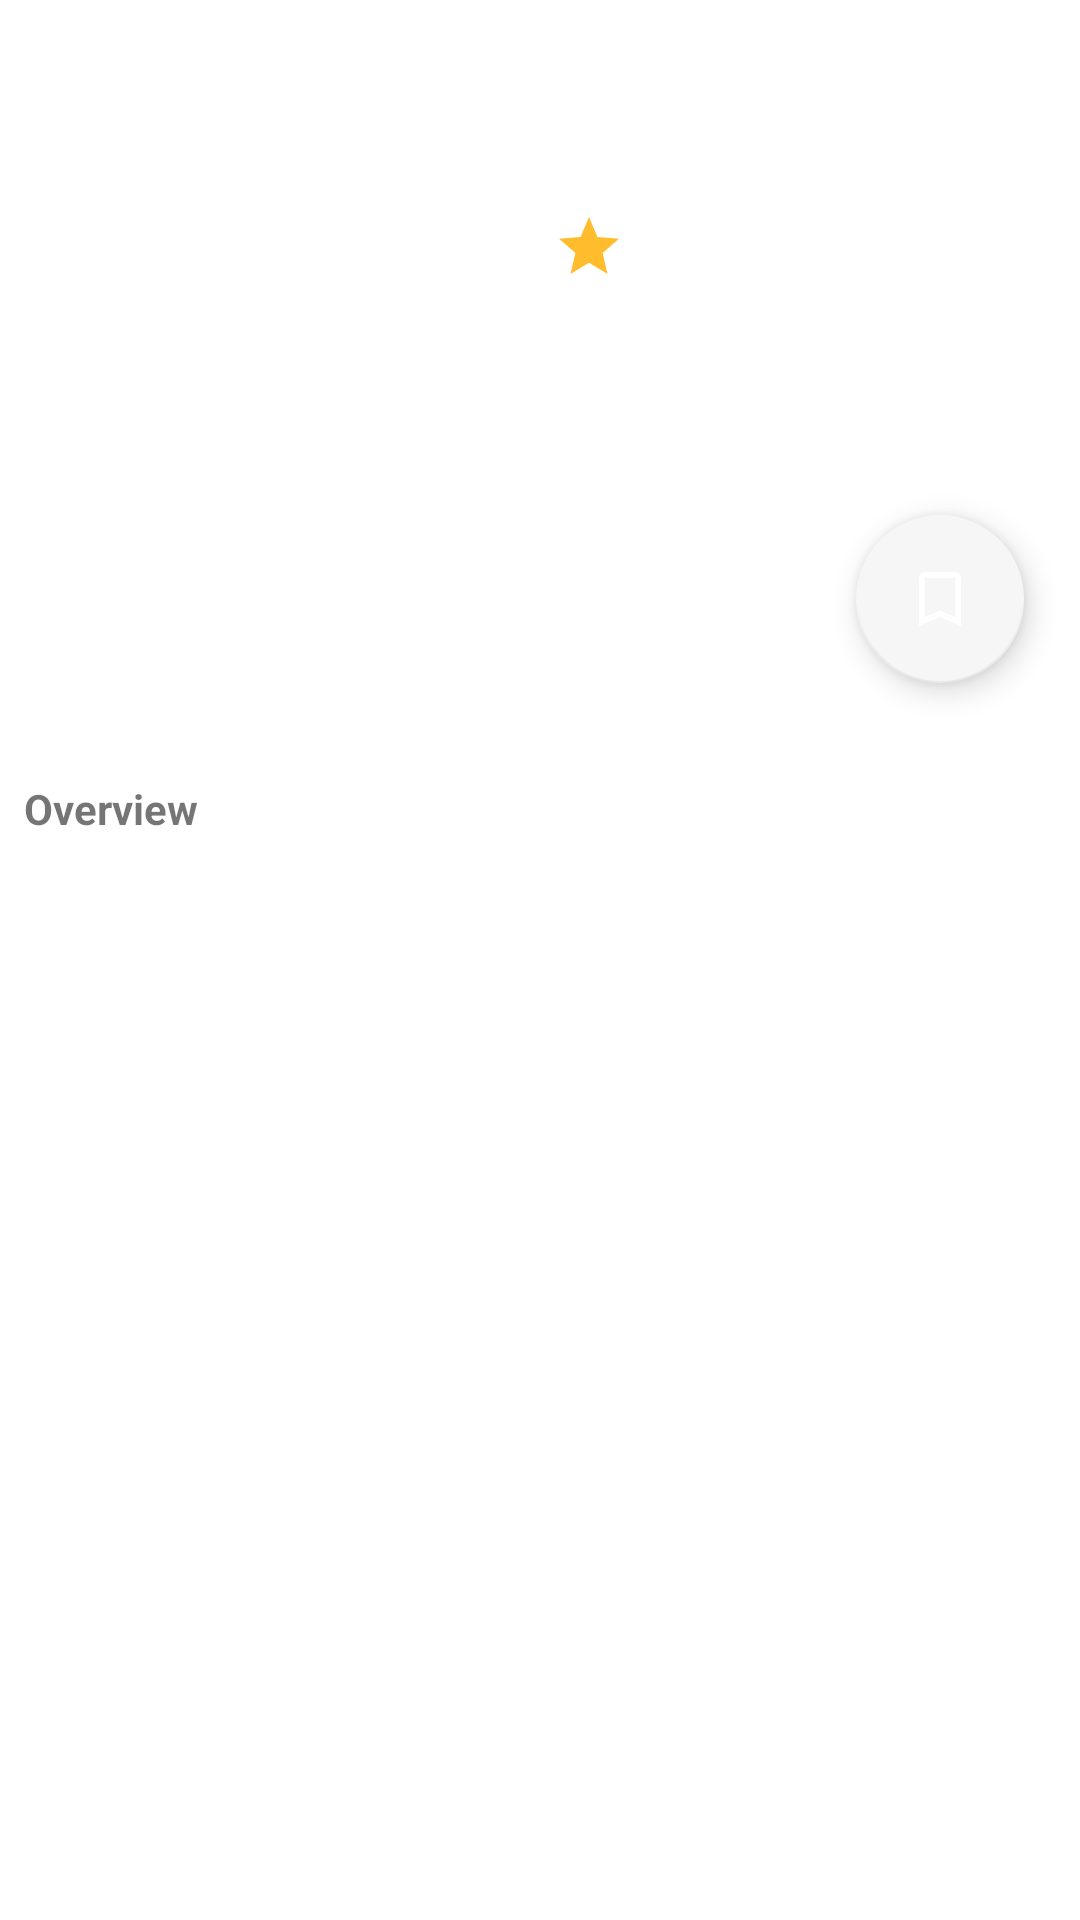

Screen size 1080w x 1920h. Icon name, then its center in pixels as (x=x, y=y):
bookmark border: (x=954, y=624)
